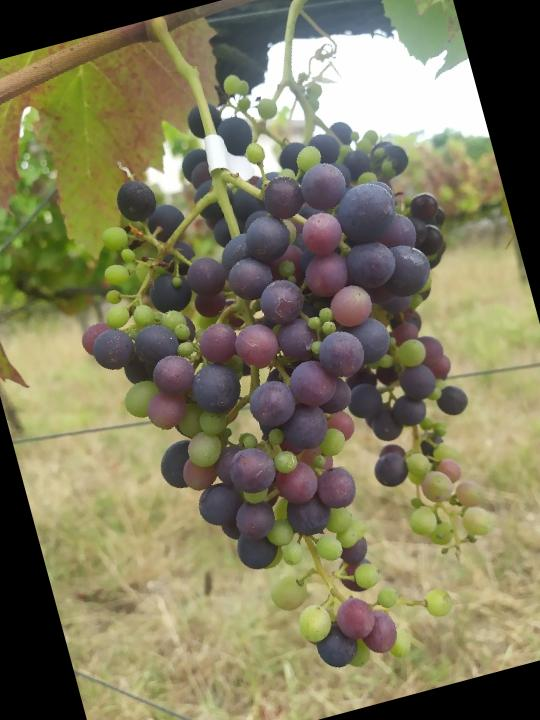grape: (31, 56, 528, 719)
